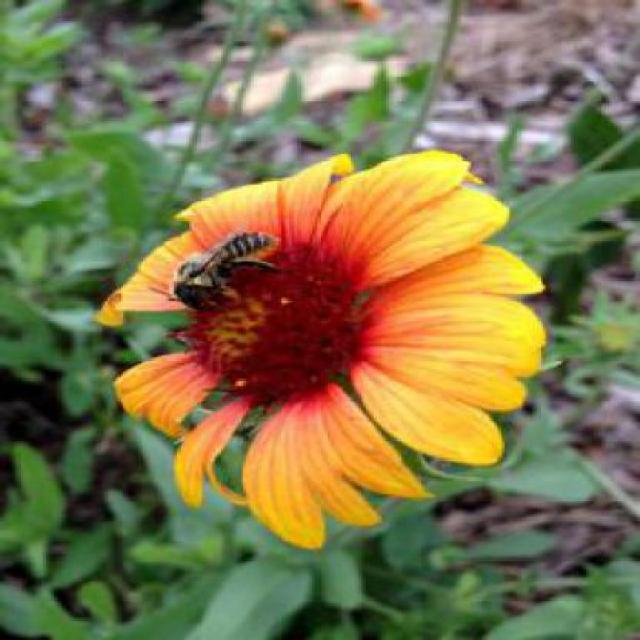Flower: (95, 149, 549, 554)
